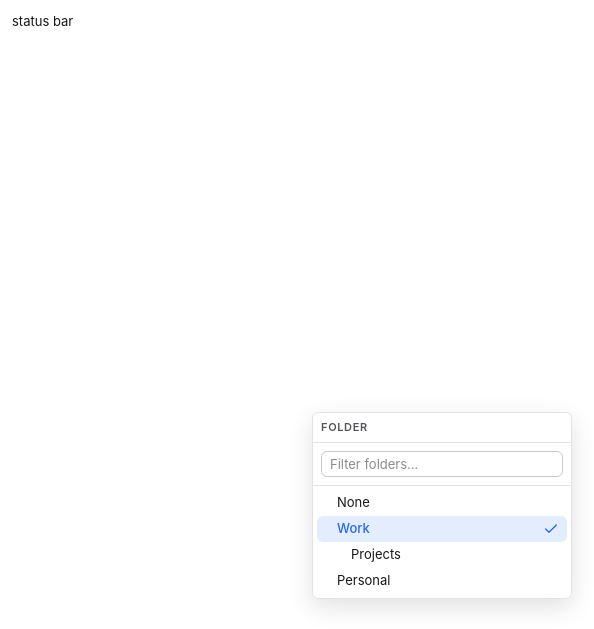
Test case: FolderPicker › says so when nothing matches, without offering to create
Type "zzz" into the field with test id "folder-picker-filter" at {"x": 442, "y": 464}, box [321,450,563,476]
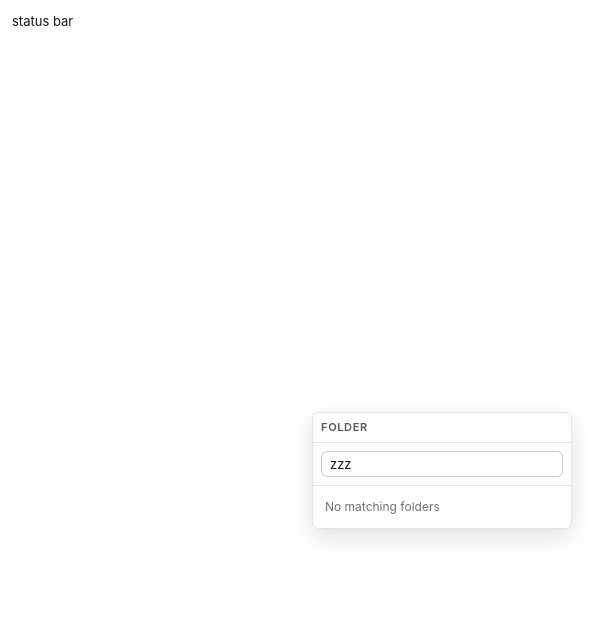
Check: the option is gone
Check: the text "No matching folders" is shown, box [325,498,440,514]
